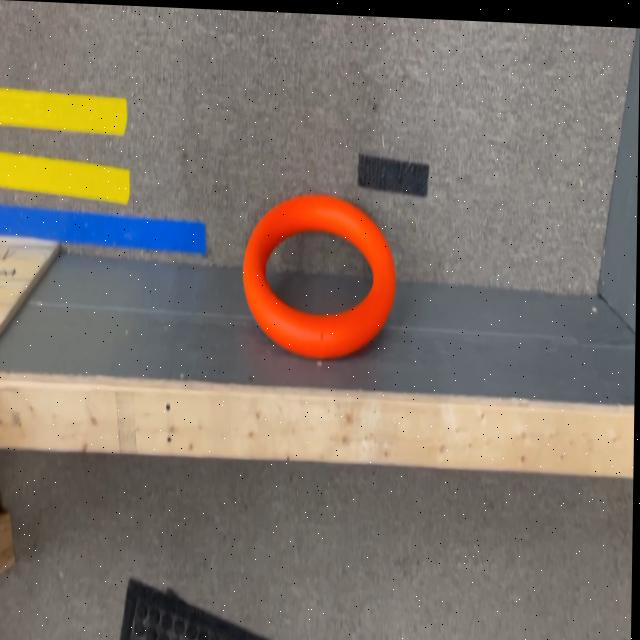note: (242, 188, 397, 355)
